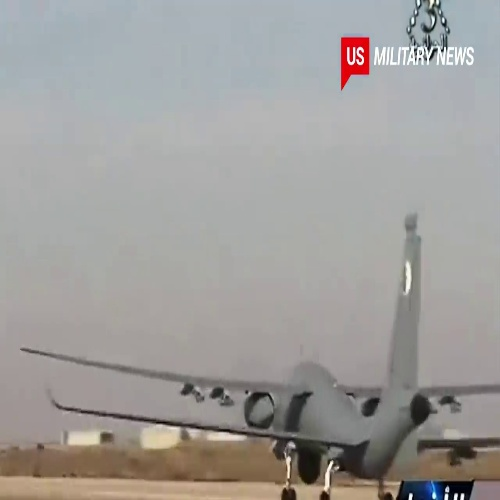uav256: (23, 212, 500, 497)
